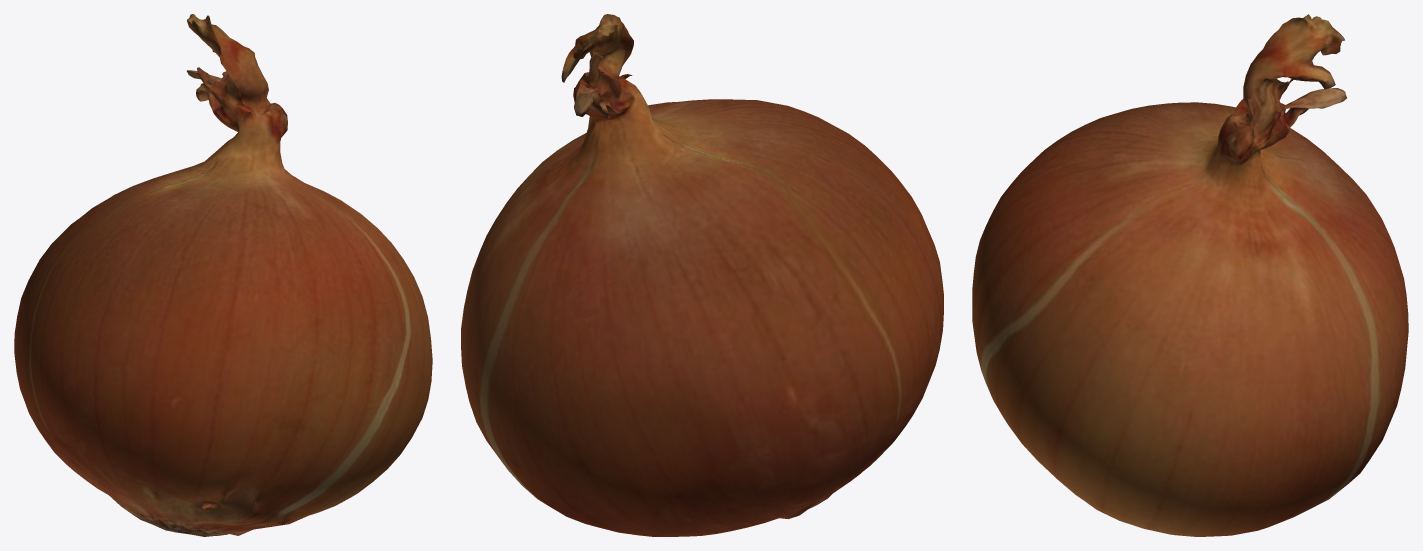
Rendered from onion.glb.
3 renders of one model, left to right at view 1: azimuth 30°, elevation 25°; view 2: azimuth 150°, elevation 25°; view 3: azimuth 270°, elevation 25°, orthographic. The views are drawn at different scales.
Visible parts, largest first — view 1: onion; view 2: onion; view 3: onion.
Boxes of the visible parts, <box> form: onion: <box>14,14,432,536</box>; onion: <box>461,14,943,536</box>; onion: <box>972,14,1408,536</box>.
Bounding box in the file's own units: 0.0725 × 0.0862 × 0.0686.
1 material, 1 textured.
